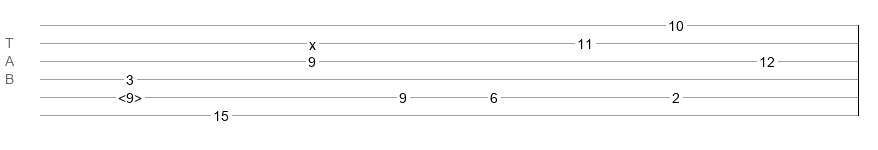10: (668, 18, 684, 28)
11: (577, 36, 593, 46)
12: (759, 54, 775, 64)
15: (213, 108, 229, 118)
2: (672, 90, 680, 100)
3: (126, 72, 134, 82)
6: (490, 90, 498, 100)
9: (308, 54, 316, 64), (399, 90, 407, 100)
harmonic: (118, 90, 142, 100)
x: (309, 37, 316, 45)
